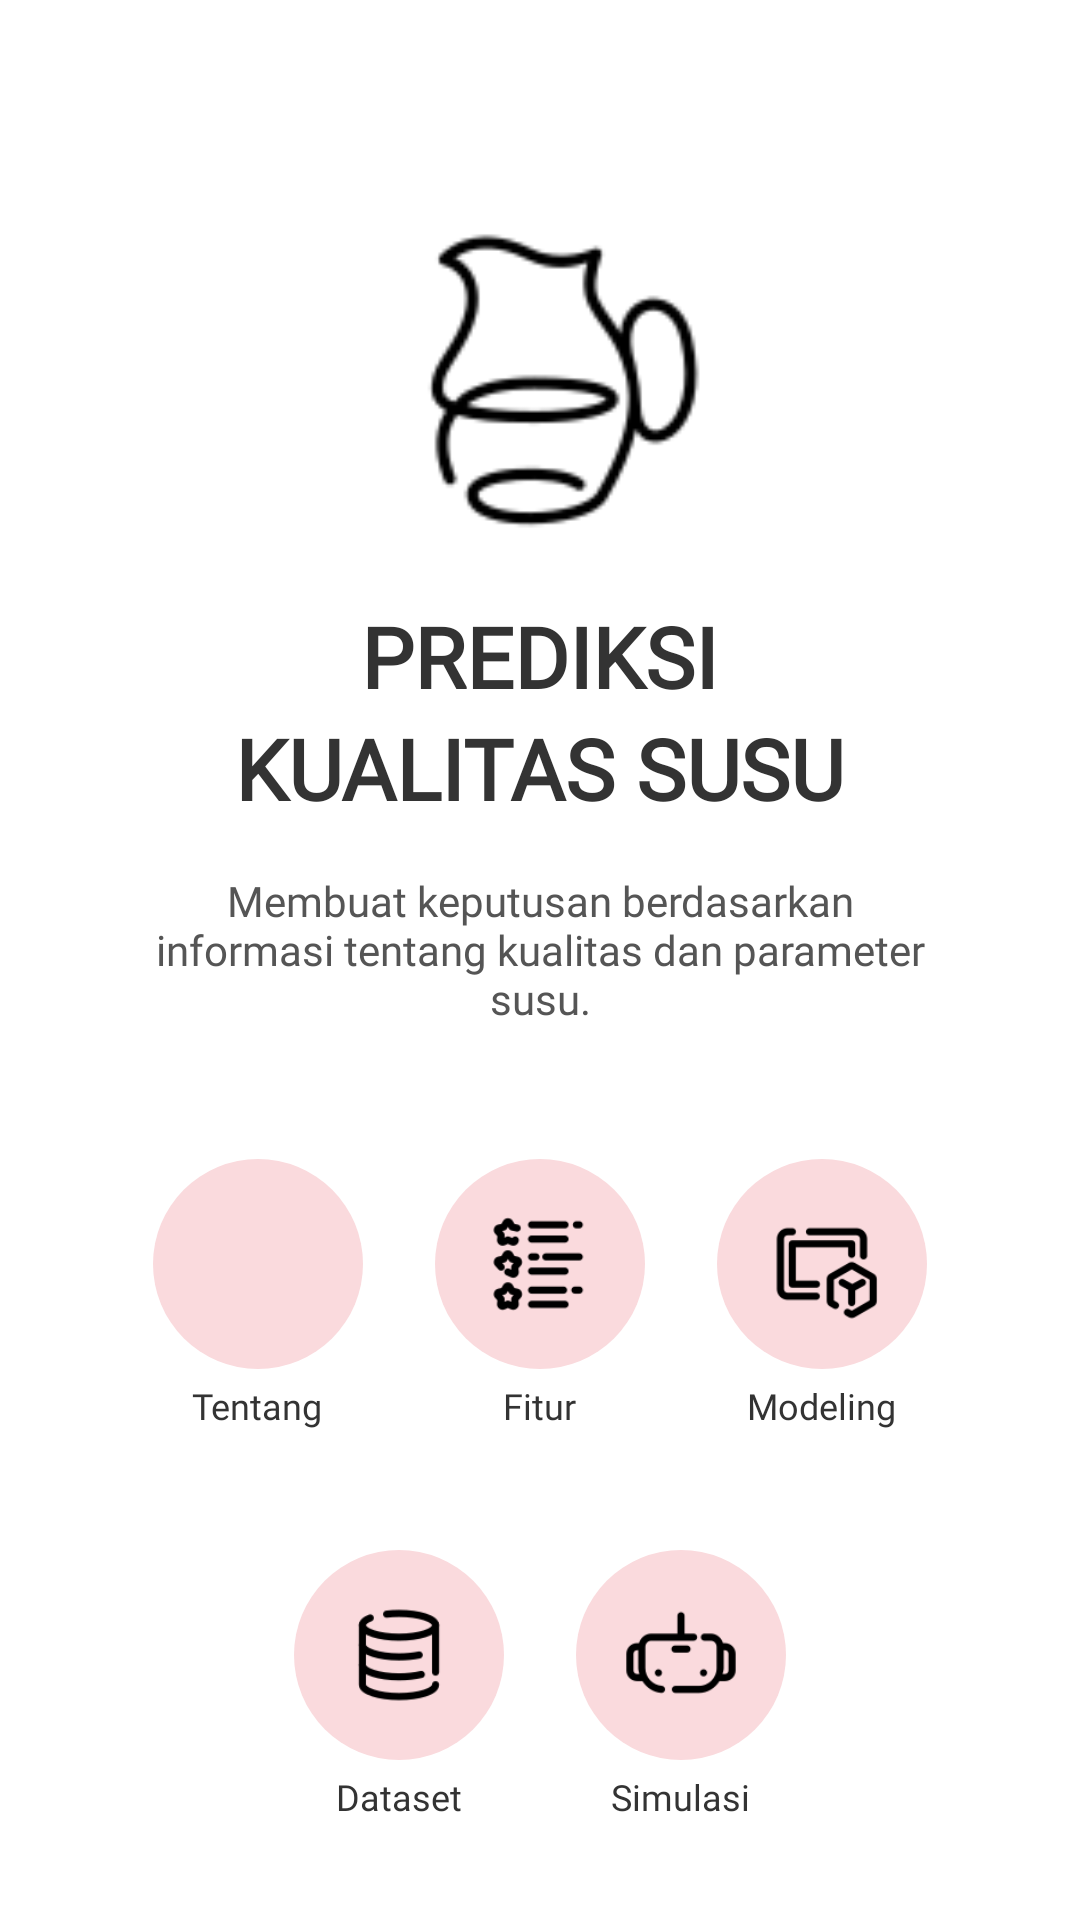

Icon click points for this 1080x1920 phone screenshot, format (x=x, y=y):
Milk Jug Icon: (x=564, y=380)
